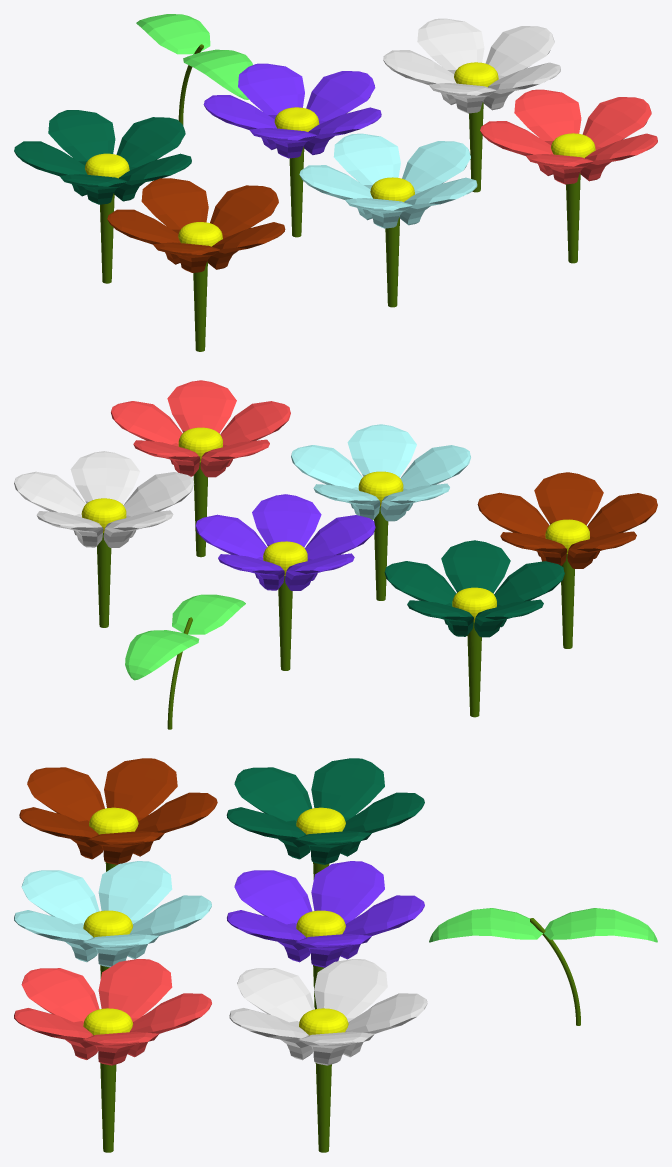
Rendered from CuteFlowers-GiantLeafFIXEDOrange.fbx.
3 renders of one model, top to bottom at view 1: azimuth 30°, elevation 25°; view 2: azimuth 150°, elevation 25°; view 3: azimuth 270°, elevation 25°, orthographic. The views are drawn at different scales.
Parts seen in each view (by area): view 1: OrangeFlower, LightBlueFlower, RedFlower, PurpleFlower, GreenFlower, WhiteFlower, GiantLeaf; view 2: GreenFlower, PurpleFlower, WhiteFlower, LightBlueFlower, OrangeFlower, RedFlower, GiantLeaf; view 3: WhiteFlower, RedFlower, GreenFlower, PurpleFlower, OrangeFlower, LightBlueFlower, GiantLeaf.
Part boxes in pixels (bbox=[...]): OrangeFlower: bbox=[107, 178, 285, 351]; LightBlueFlower: bbox=[299, 133, 477, 307]; RedFlower: bbox=[480, 89, 657, 263]; PurpleFlower: bbox=[203, 63, 381, 237]; GreenFlower: bbox=[14, 110, 191, 283]; WhiteFlower: bbox=[383, 18, 560, 192]; GiantLeaf: bbox=[136, 14, 252, 125]; GreenFlower: bbox=[384, 540, 564, 717]; PurpleFlower: bbox=[195, 494, 375, 670]; WhiteFlower: bbox=[14, 451, 194, 627]; LightBlueFlower: bbox=[291, 424, 470, 600]; OrangeFlower: bbox=[477, 472, 657, 648]; RedFlower: bbox=[111, 380, 290, 557]; GiantLeaf: bbox=[125, 594, 245, 729]; WhiteFlower: bbox=[229, 959, 427, 1152]; RedFlower: bbox=[14, 959, 211, 1152]; GreenFlower: bbox=[226, 758, 424, 879]; PurpleFlower: bbox=[227, 861, 424, 1009]; OrangeFlower: bbox=[19, 758, 217, 871]; LightBlueFlower: bbox=[14, 861, 211, 978]; GiantLeaf: bbox=[429, 908, 657, 1025].
Bounding box in the file's own units: 3170 × 781 × 3022.
